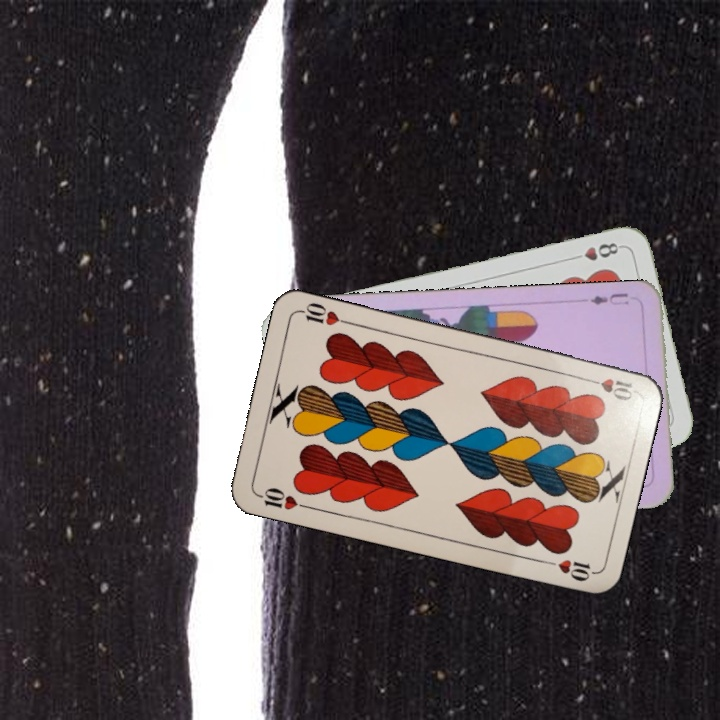EU: (586, 289, 631, 308)
H10: (254, 483, 312, 513), (580, 374, 638, 403)
H8: (567, 238, 625, 264)
